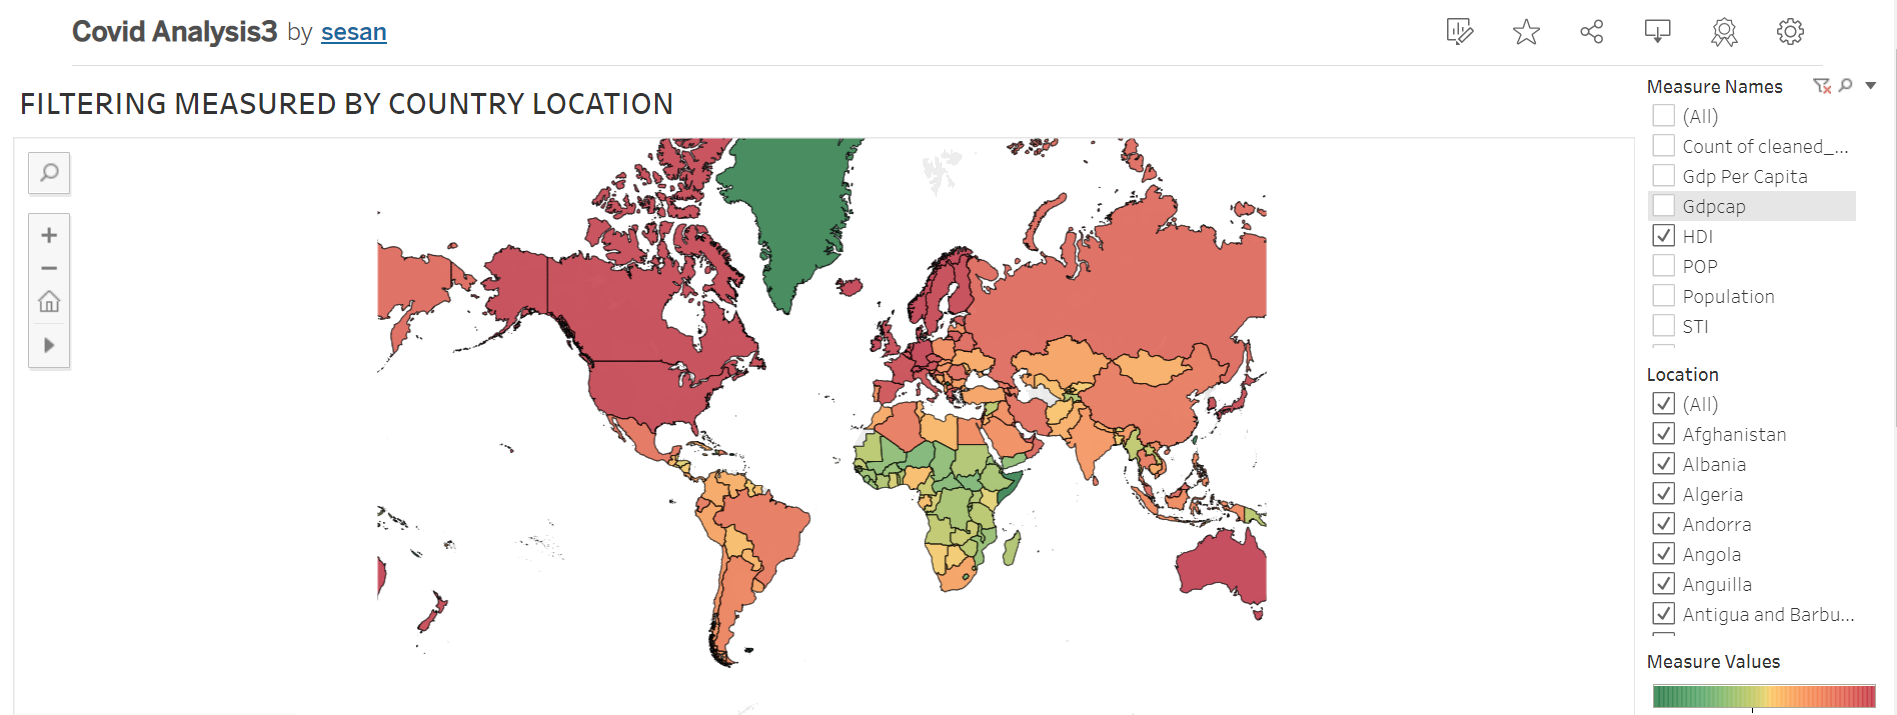

The dashboard page shown, as its layout file describes it:
{"tool":"tableau","page":{"name":"Dashboard 4","canvas":[1000,1000],"units":"permille","ordinal":1},"visuals":[{"type":"worksheet","title":"Sheet 1","mark":"Automatic","cols":["date"],"box":[5.2,9.9,831.6,980.2]},{"type":"filter","title":"Sheet 1","param":"[federated.1h7e9fa16st54d144zt0b0s0wyhs].[my:date:ok]","box":[836.8,9.9,158.1,302.4]},{"type":"filter","title":"Sheet 1","param":"[federated.1h7e9fa16st54d144zt0b0s0wyhs].[none:location:nk]","box":[836.8,312.3,158.1,302.4]},{"type":"filter","title":"Sheet 1","param":"[federated.1h7e9fa16st54d144zt0b0s0wyhs].[:Measure Names]","box":[836.8,614.6,158.1,302.4]},{"type":"legend","title":"Sheet 1","param":"[federated.1h7e9fa16st54d144zt0b0s0wyhs].[yr:date:ok]","box":[836.8,917,158.1,73.1]}]}

Visuals, with their boxes on the dashboard's canvas, which has no fixed pixel size, in thousandths of its width and height (x1, y1, x2, y2). These are canvas units, not pixel positions in the 1897x715 screenshot, which may show the page scaled, cropped or inside an application window:
"Sheet 1" worksheet: {"x1": 5, "y1": 10, "x2": 837, "y2": 990}
"Sheet 1" filter: {"x1": 837, "y1": 10, "x2": 995, "y2": 312}
"Sheet 1" filter: {"x1": 837, "y1": 312, "x2": 995, "y2": 615}
"Sheet 1" filter: {"x1": 837, "y1": 615, "x2": 995, "y2": 917}
"Sheet 1" legend: {"x1": 837, "y1": 917, "x2": 995, "y2": 990}
